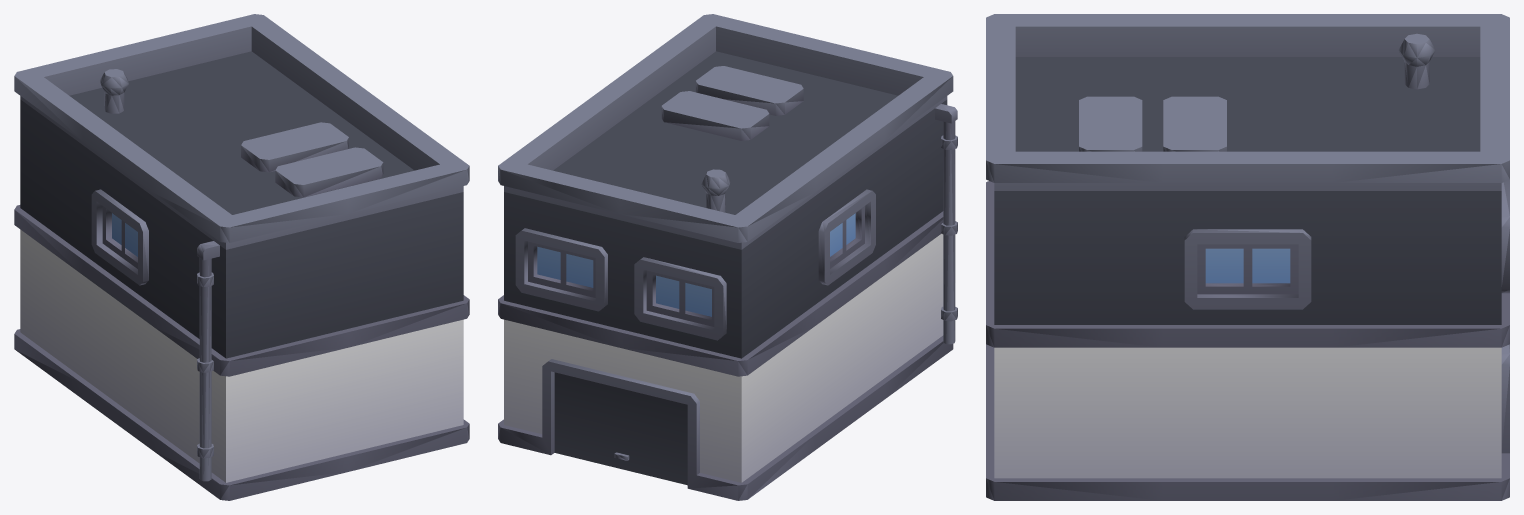
File: ki_building_o.fbx
3 views of the same model, side by side, from view 1: azimuth 30°, elevation 25°; view 2: azimuth 150°, elevation 25°; view 3: azimuth 270°, elevation 25° (orthographic). The views are drawn at different scales.
Visible parts, largest first — view 1: ki_building_o_LOD0; view 2: ki_building_o_LOD0; view 3: ki_building_o_LOD0.
Part boxes in pixels (left/top/right/bottom): ki_building_o_LOD0: left=14, top=14, right=469, bottom=500; ki_building_o_LOD0: left=498, top=14, right=957, bottom=500; ki_building_o_LOD0: left=986, top=14, right=1509, bottom=500.
Size of what is drawn, in the model's own units: 7.51 by 7.8 by 10.54.
1 material, 1 textured.
